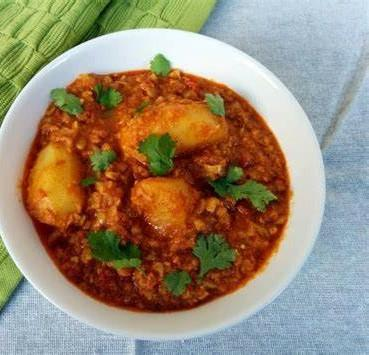DumAloo: (25, 69, 291, 311)
